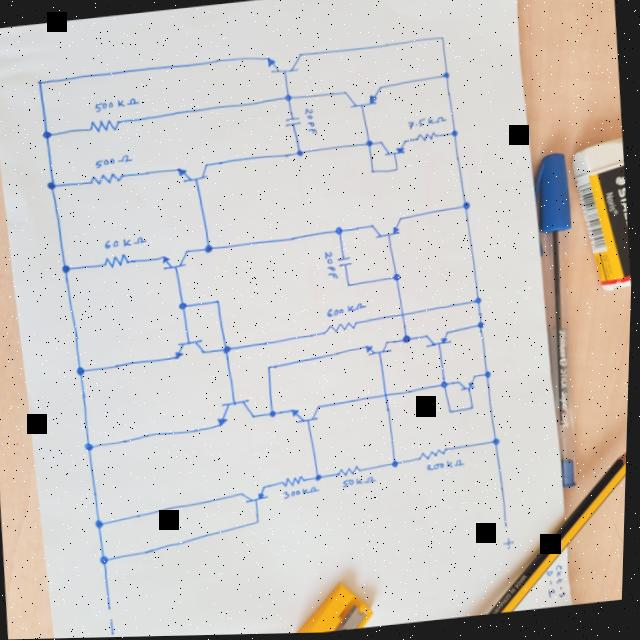capacitor: (283, 114, 305, 129), (337, 255, 355, 269)
crossover: (383, 390, 394, 401), (399, 310, 411, 320)
junction: (101, 551, 116, 567), (77, 362, 90, 377), (85, 438, 98, 452), (96, 516, 109, 530), (179, 298, 192, 311), (61, 260, 74, 273), (204, 241, 217, 254), (402, 333, 415, 345), (41, 127, 54, 139), (46, 178, 59, 190), (462, 200, 474, 212), (223, 343, 235, 355), (475, 295, 486, 308), (365, 137, 376, 149), (493, 437, 505, 448), (441, 379, 452, 391), (392, 458, 404, 469), (335, 225, 346, 237), (441, 70, 453, 81), (477, 319, 488, 331), (284, 91, 295, 102), (393, 272, 404, 283), (316, 471, 327, 482), (484, 369, 495, 380), (450, 128, 461, 139), (269, 408, 280, 419), (295, 148, 306, 158), (215, 295, 225, 306), (35, 77, 45, 87), (470, 403, 479, 413), (267, 363, 276, 372), (256, 517, 265, 526), (439, 34, 447, 43), (370, 167, 378, 175), (449, 408, 457, 416), (394, 166, 401, 173), (347, 281, 354, 288)
resistor: (88, 114, 123, 135), (323, 319, 363, 336), (90, 168, 127, 186), (419, 445, 454, 463), (103, 251, 134, 270), (338, 464, 367, 478), (283, 473, 310, 488), (416, 130, 440, 143)
terminal: (505, 521, 514, 531), (110, 603, 117, 610)
text: (325, 300, 370, 319), (92, 94, 142, 111), (103, 233, 150, 250), (94, 151, 135, 168), (407, 115, 449, 131), (428, 458, 469, 473), (283, 484, 323, 499), (342, 474, 381, 489), (324, 249, 342, 281), (303, 105, 319, 136), (109, 615, 122, 636), (504, 537, 519, 551)
transistor: (217, 395, 258, 428), (261, 49, 306, 78), (343, 83, 385, 110), (174, 159, 212, 186), (370, 215, 407, 240), (175, 336, 212, 361), (159, 247, 194, 272), (290, 402, 326, 426), (240, 482, 275, 506), (424, 327, 457, 350), (380, 136, 411, 159), (458, 373, 481, 396), (367, 339, 396, 357)
